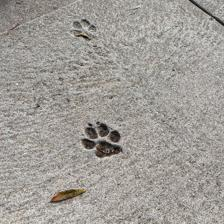dog: (81, 117, 125, 161)
